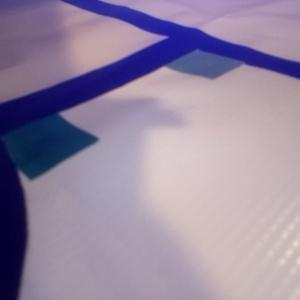bottom_right: (1, 102, 98, 178), (165, 44, 243, 81)
